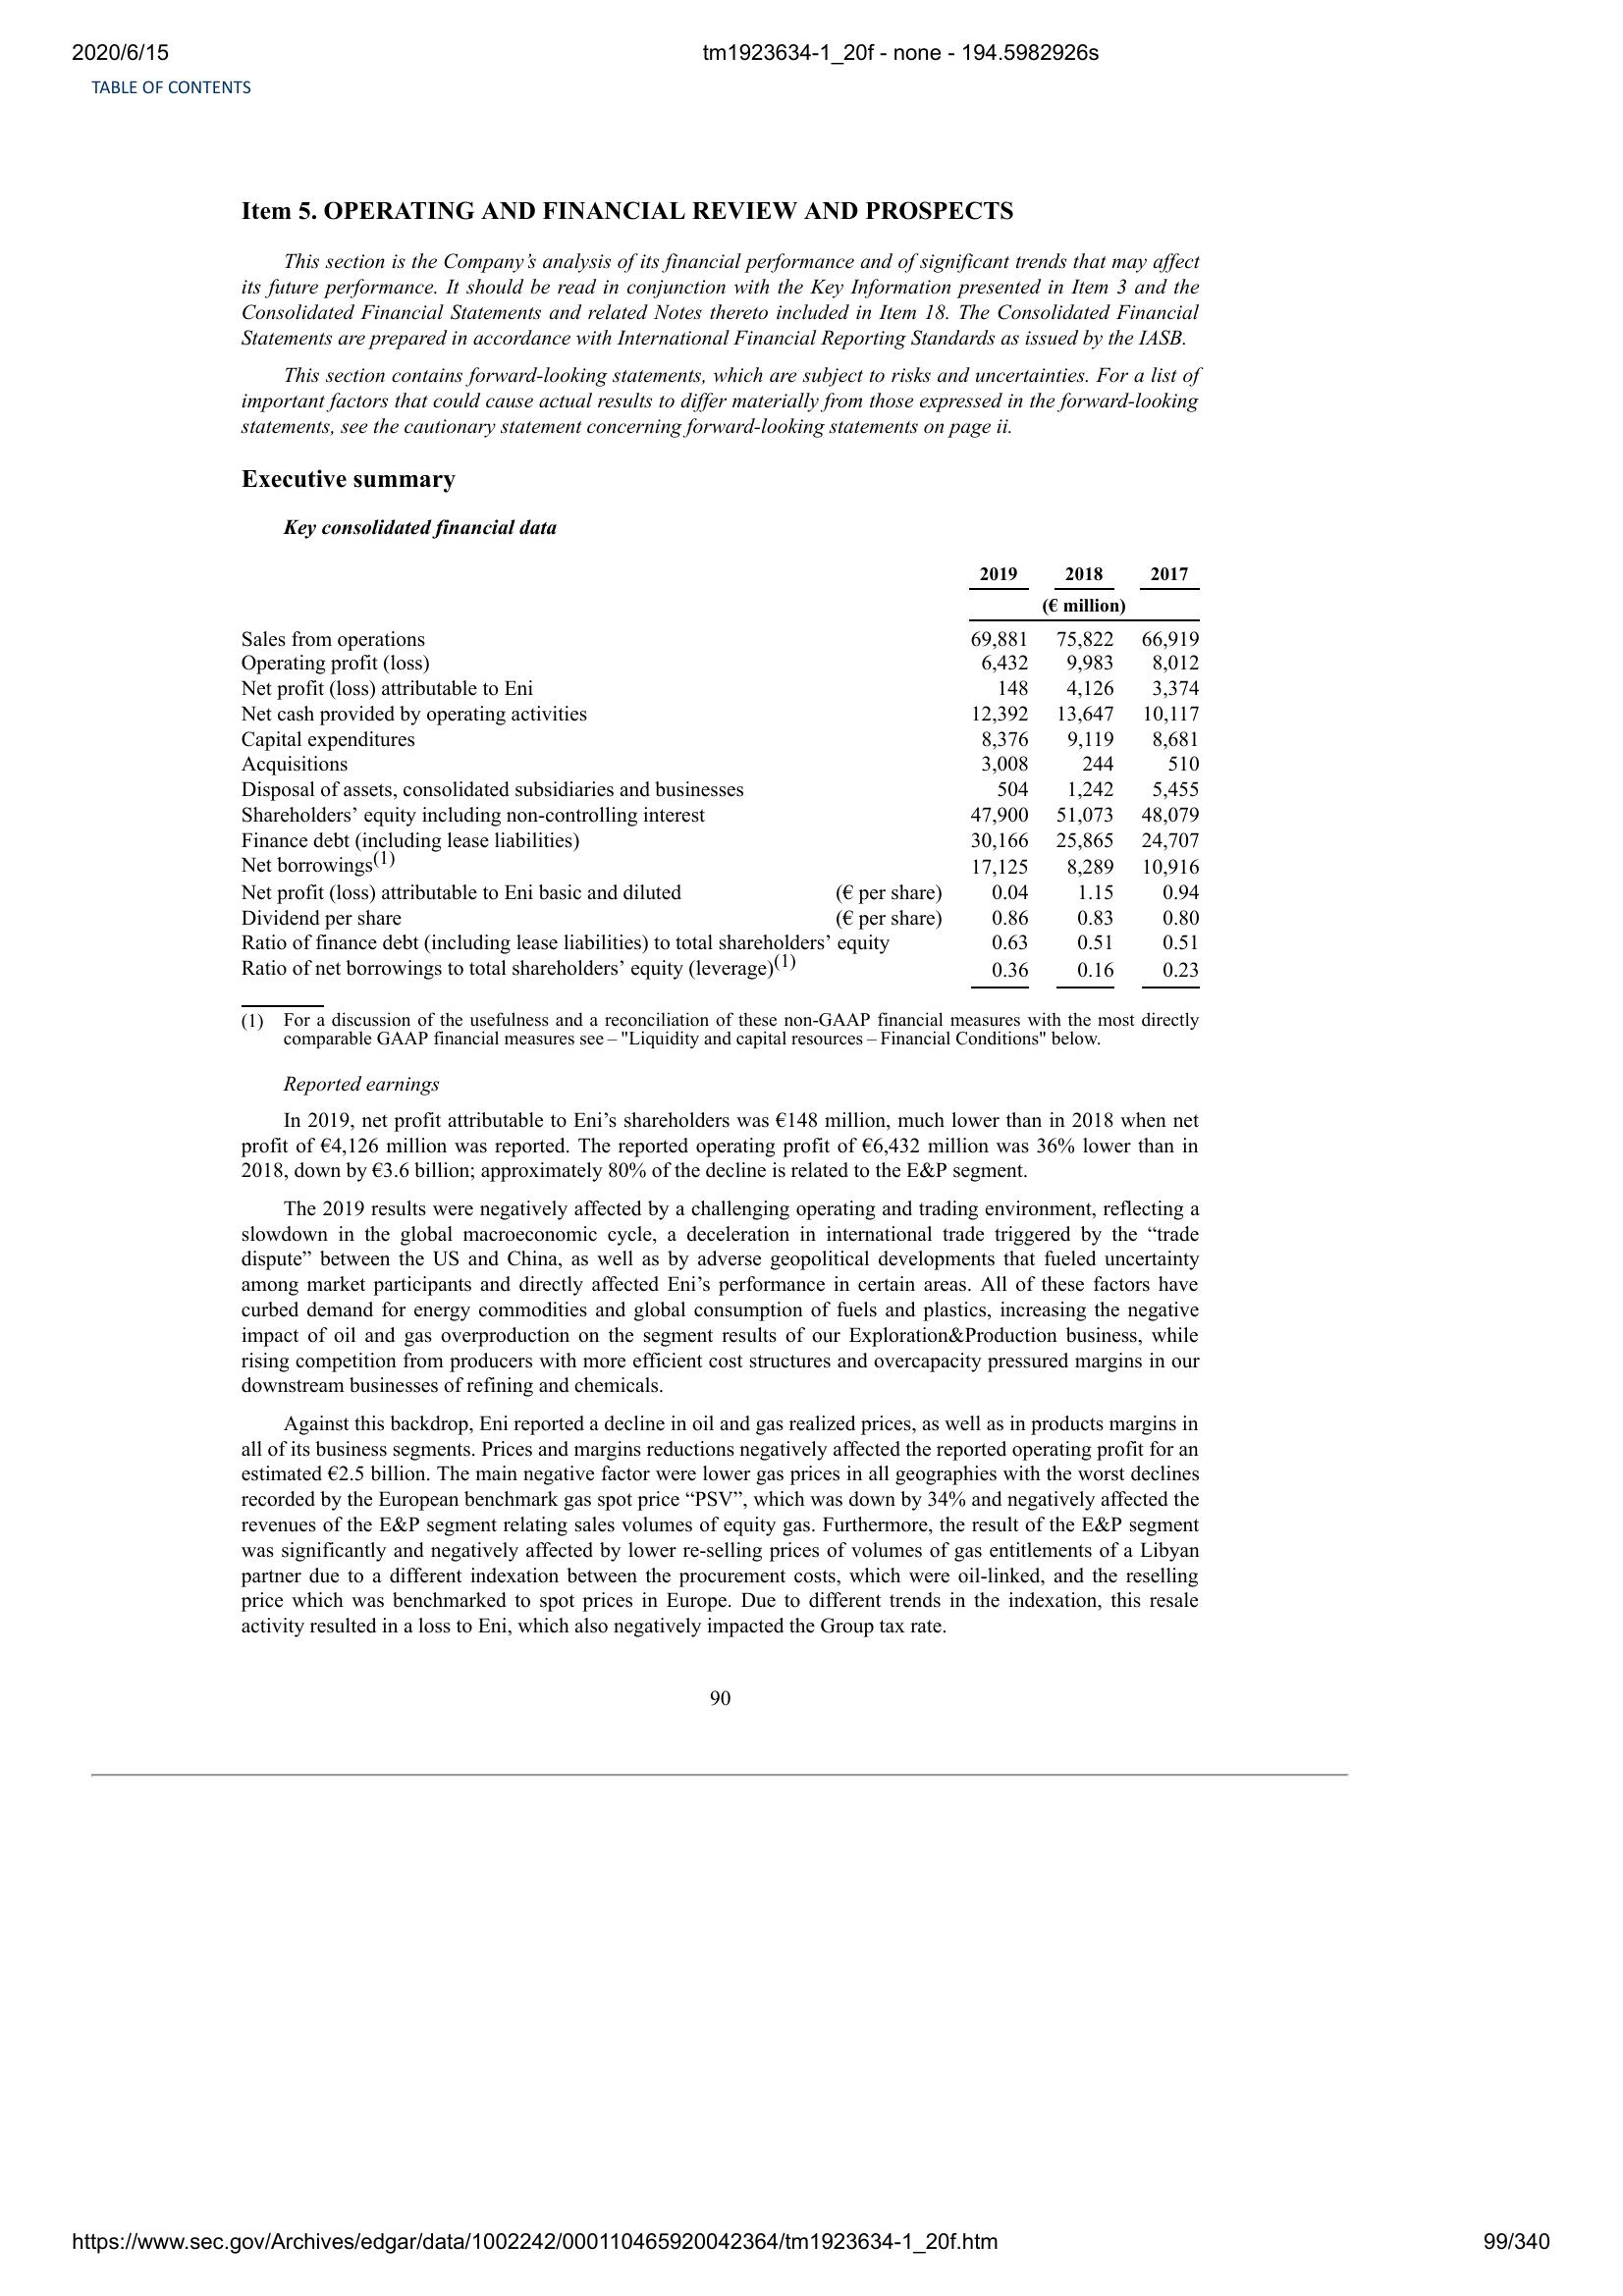table: (228, 562, 1210, 997)
